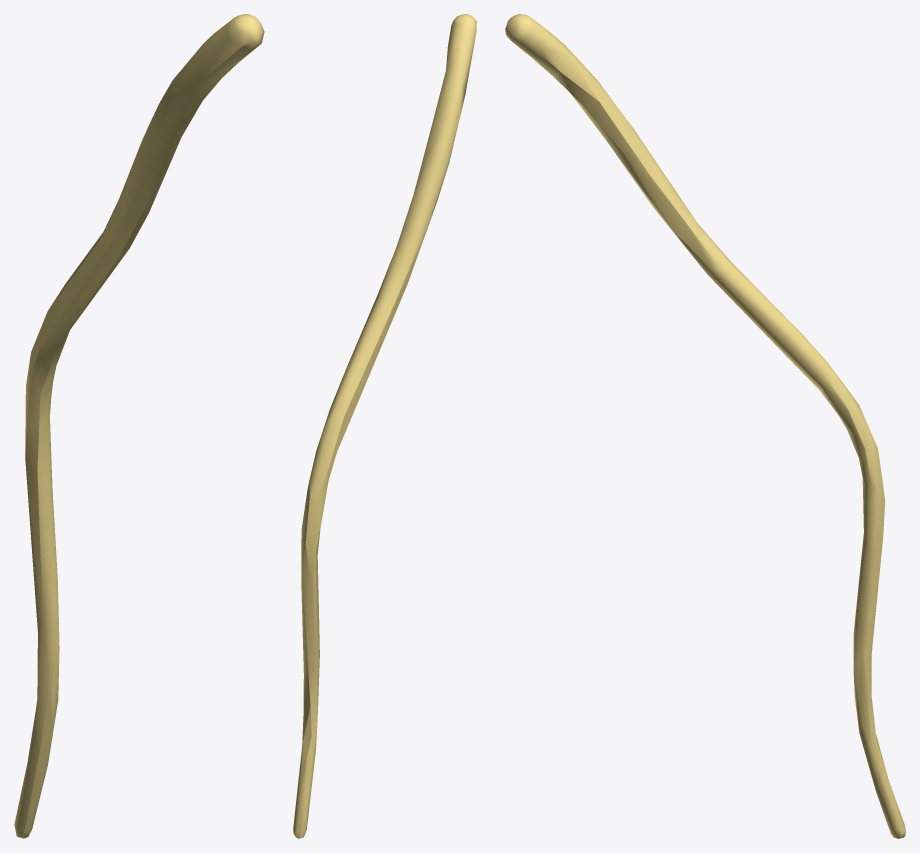
File: fma52677_fj3947.glb
3 renders of one model, left to right at view 1: azimuth 30°, elevation 25°; view 2: azimuth 150°, elevation 25°; view 3: azimuth 270°, elevation 25°, orthographic. The views are drawn at different scales.
Parts seen in each view (by area): view 1: FMA52677_FJ3947; view 2: FMA52677_FJ3947; view 3: FMA52677_FJ3947.
Part boxes in pixels (<box>): FMA52677_FJ3947: <box>14,14,264,838</box>; FMA52677_FJ3947: <box>293,14,476,838</box>; FMA52677_FJ3947: <box>505,14,905,838</box>.
Size of the model in its own units: 0.000955 by 0.0163 by 0.00722.
